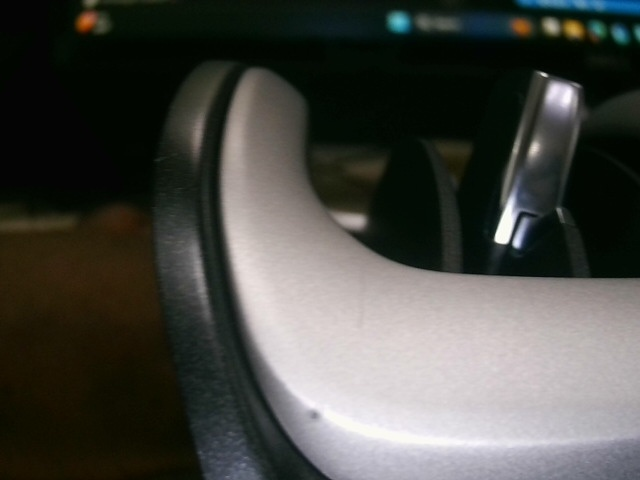NG: (344, 259, 380, 330), (152, 142, 186, 202)
